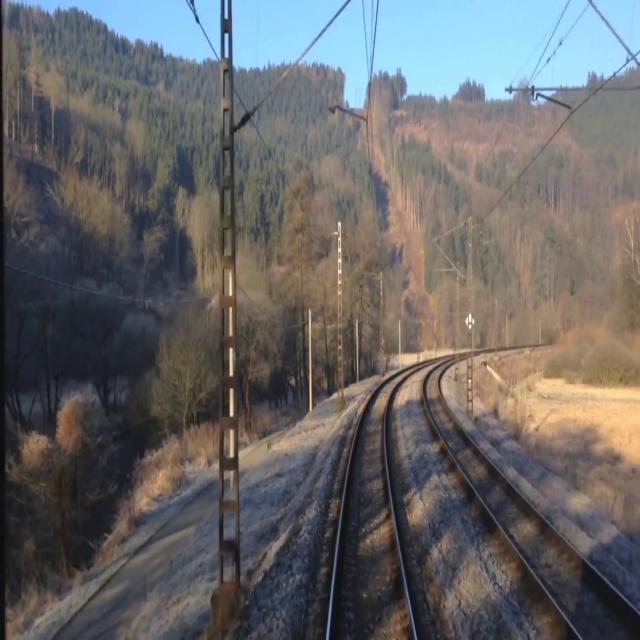rail-track: (425, 366, 640, 639), (330, 375, 413, 639)
